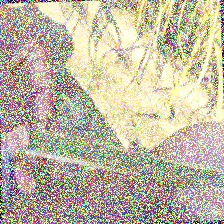Leaf_Blast: (19, 138, 151, 185)
